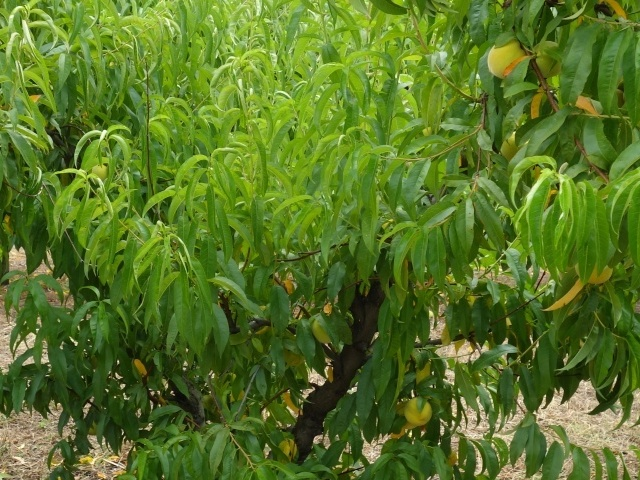peach: (484, 31, 527, 82), (530, 37, 567, 79), (573, 255, 616, 286), (401, 394, 435, 430), (305, 316, 335, 348)
